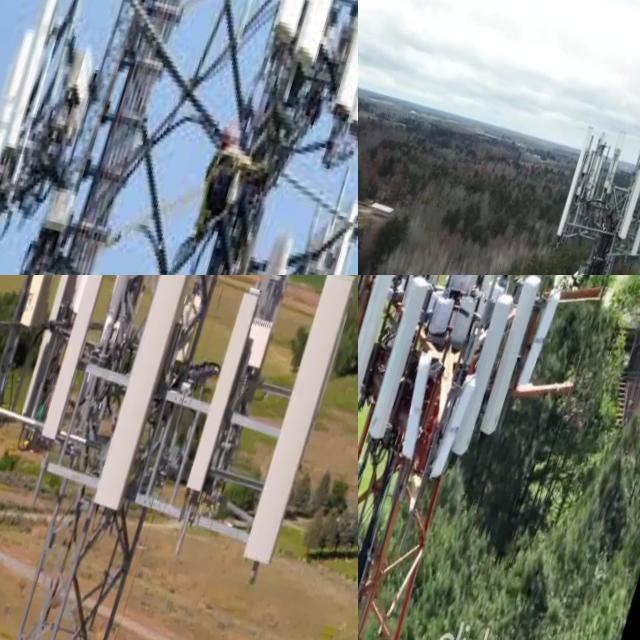GSM Antenna: (227, 275, 358, 584), (74, 275, 219, 538), (174, 293, 266, 516), (26, 275, 125, 462), (6, 275, 113, 428), (0, 0, 80, 165), (474, 279, 546, 448), (445, 296, 516, 466), (361, 278, 431, 449), (0, 275, 72, 436), (381, 348, 451, 485), (0, 18, 42, 210), (418, 374, 479, 505), (508, 291, 570, 414), (548, 122, 604, 251), (285, 0, 358, 78), (358, 275, 398, 401), (263, 0, 358, 52), (586, 138, 631, 226), (606, 166, 640, 259), (623, 146, 640, 269)
Microwave Antenna: (553, 262, 591, 275)
